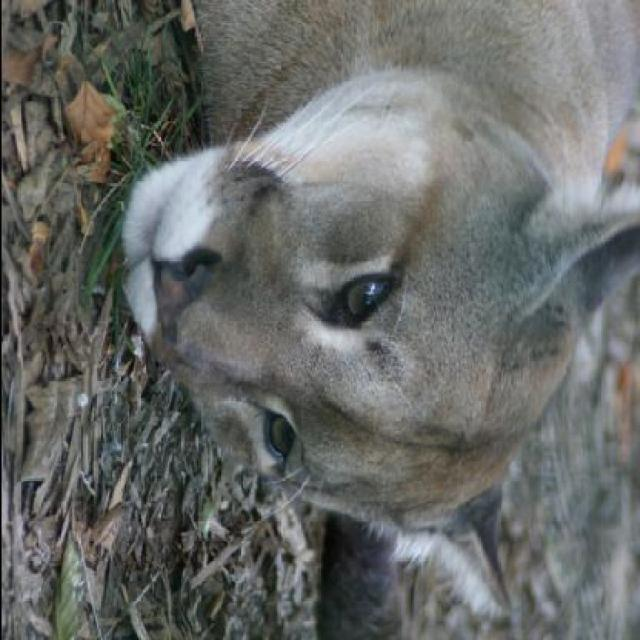Lion: (0, 1, 634, 628)
